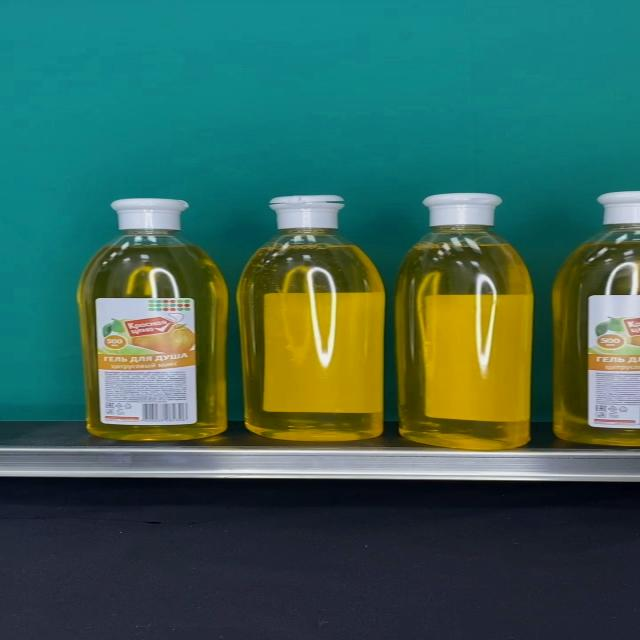Bottle: (77, 198, 229, 442), (237, 194, 386, 442), (397, 193, 533, 450)
Cap: (419, 194, 502, 226), (270, 194, 347, 228), (110, 198, 188, 231)
